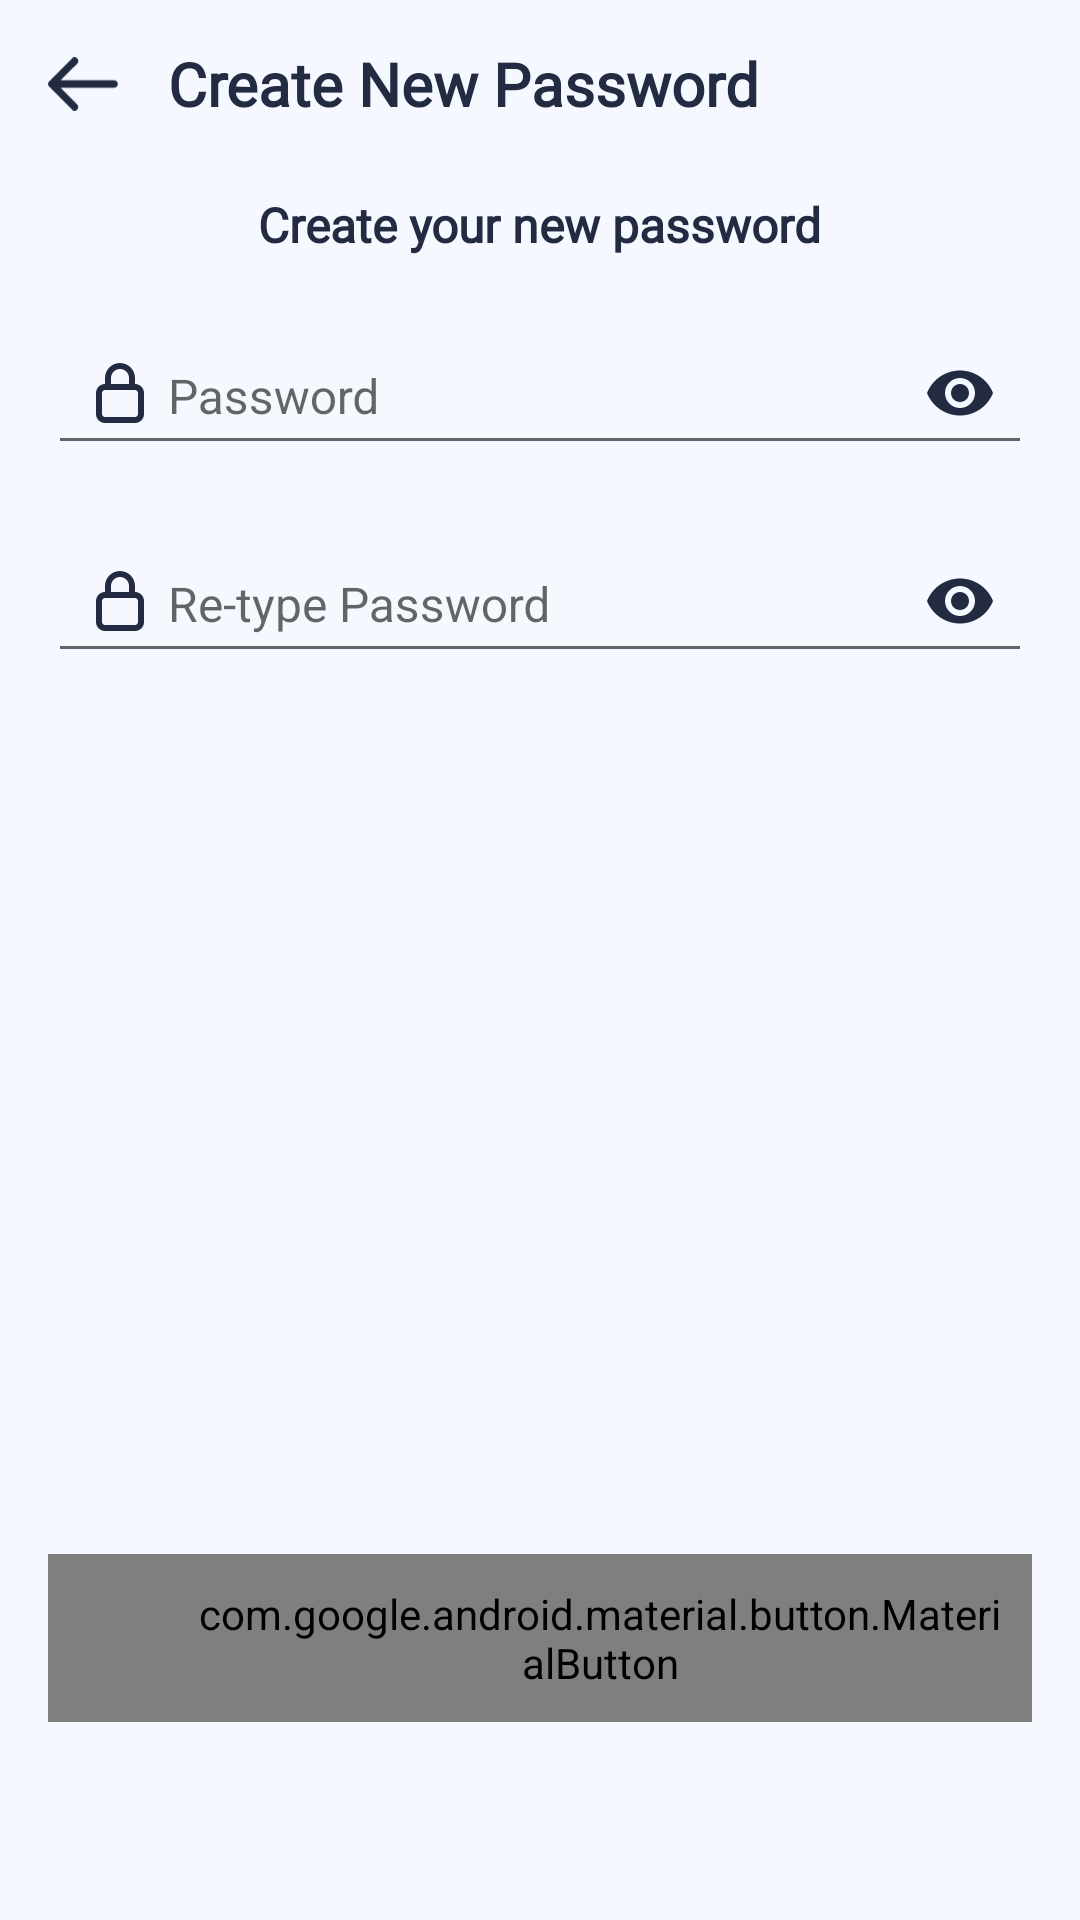

Named icons in this screenshot (1080 x 1920) and their centers, (x=x, y=y):
Back: (x=83, y=84)
